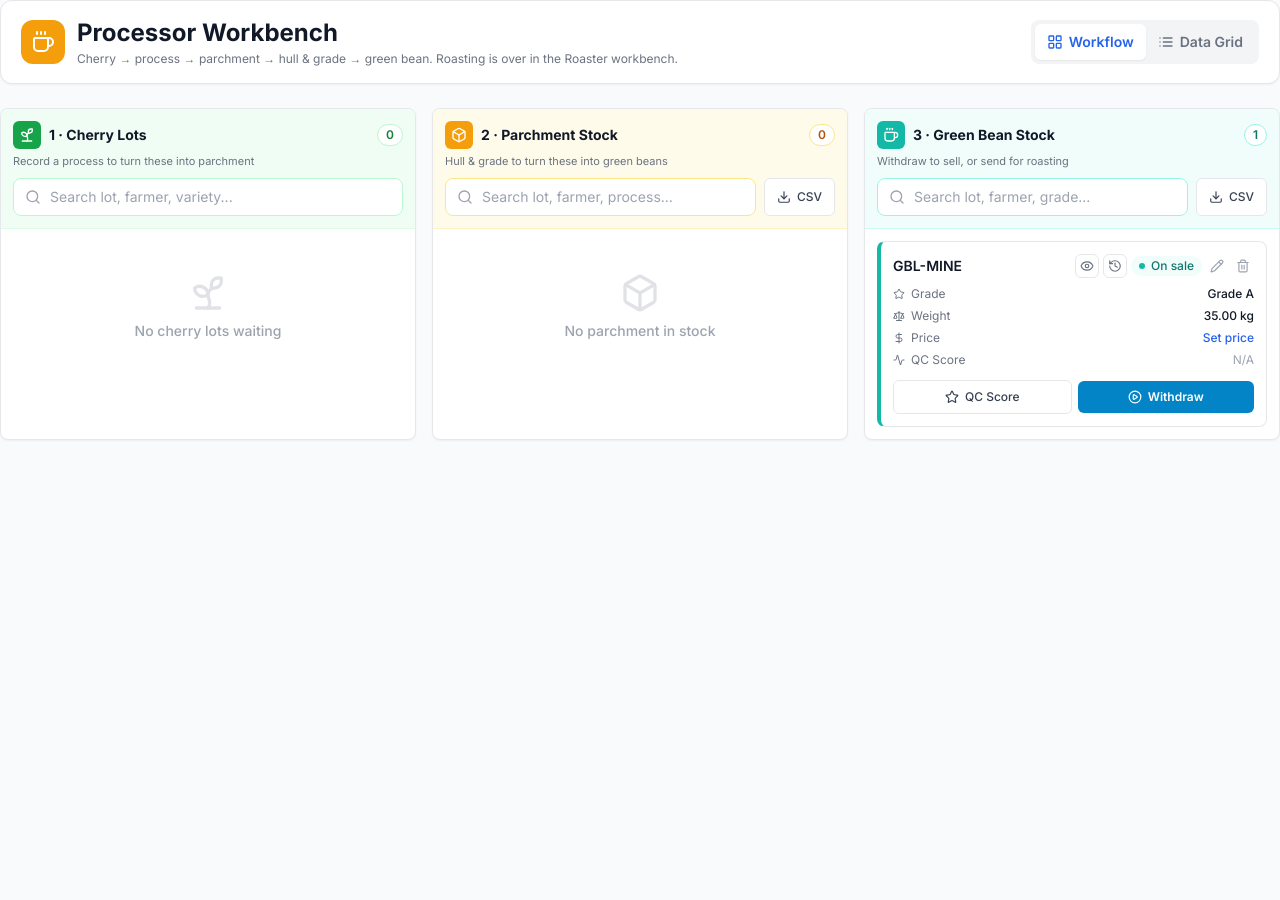
Workbench withdrawal Void and Edit (D7) › voids a Roasting Stock push: kg back on the lot and off the roaster stock, row marked in place
This screenshot has width=1280, height=900.
Click the button "Data Grid" at (1200, 42), box [1146,24,1255,60]
(page scrolled)
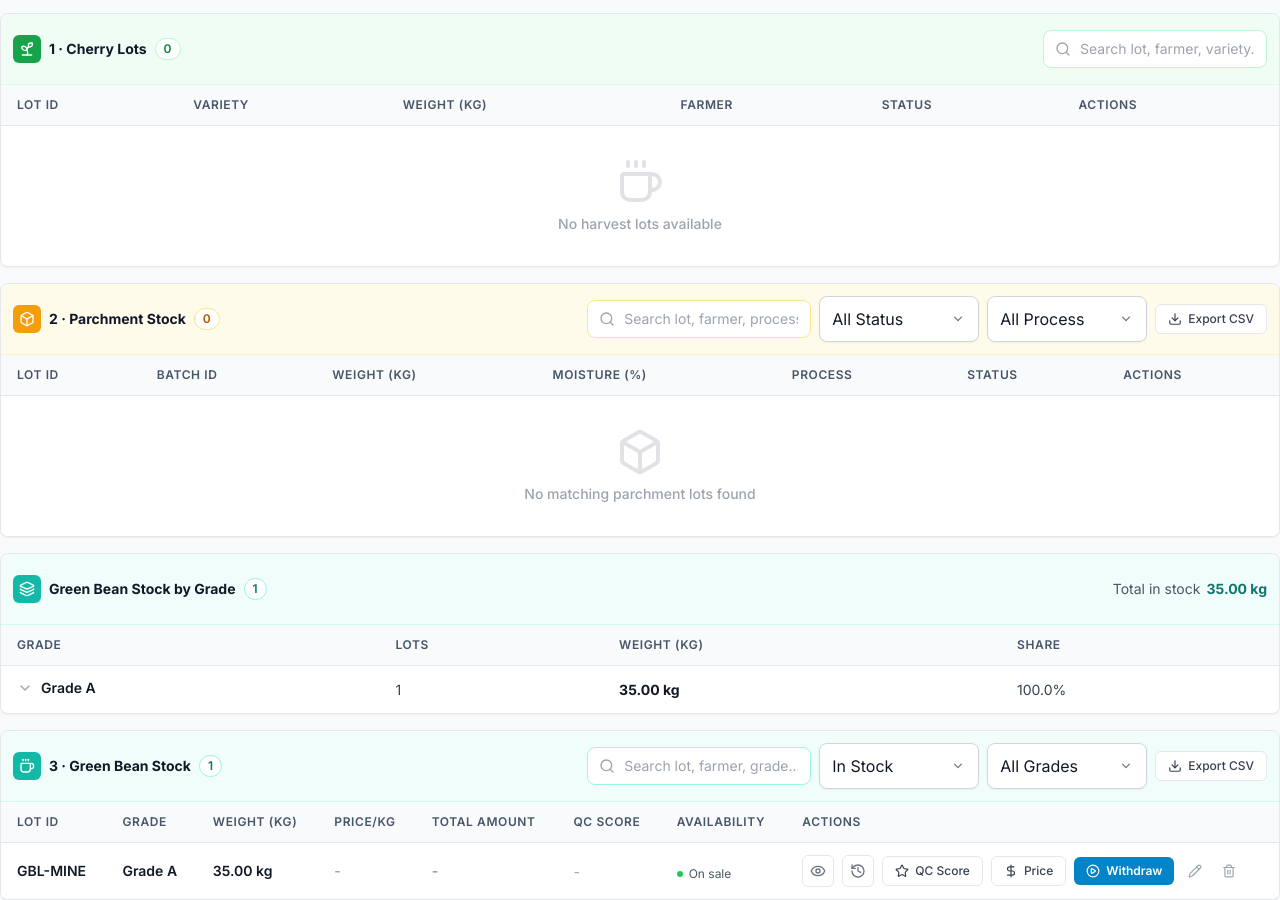
Click the button named "Withdrawal history of green bean lot " at (858, 871), box [842,855,874,887]
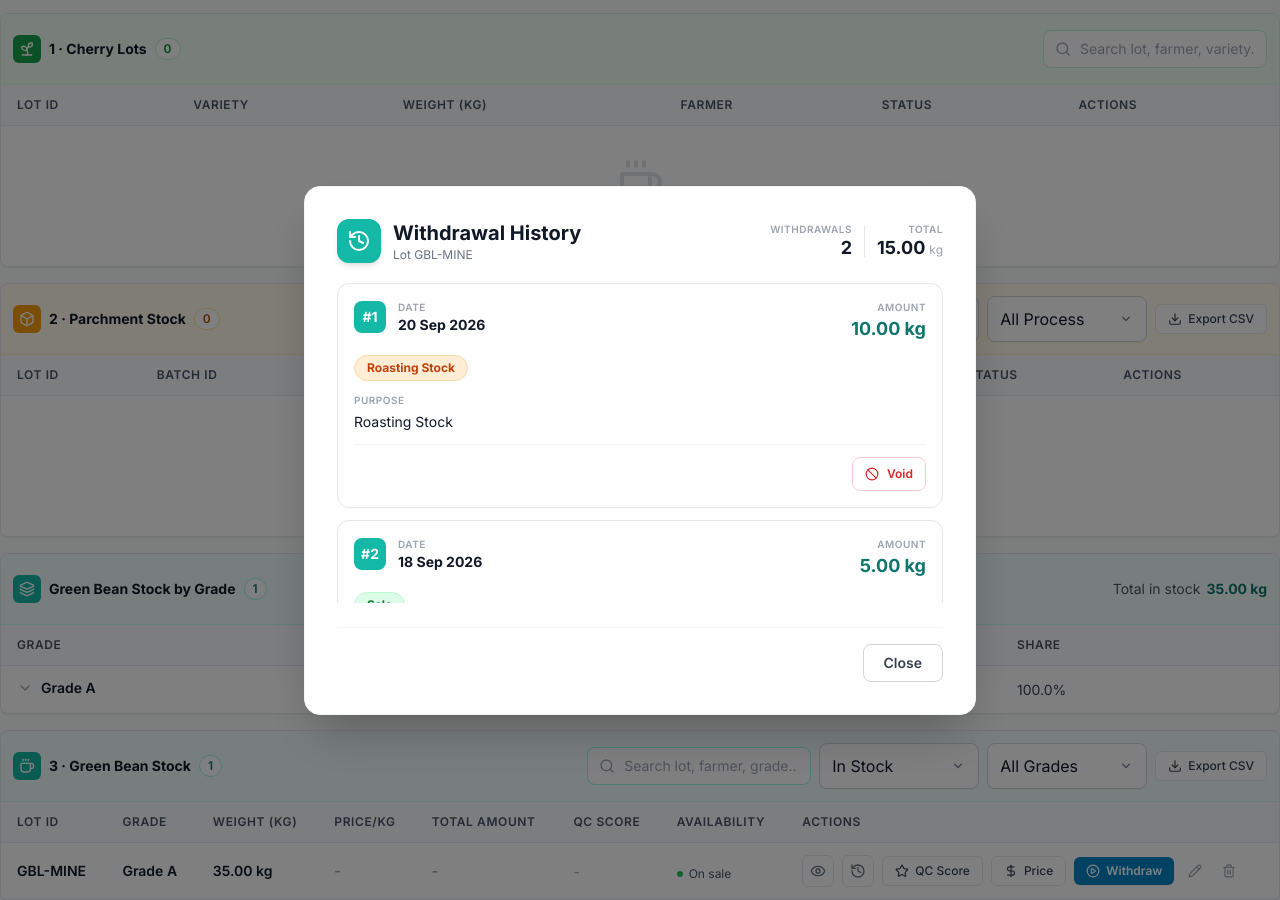
Click the button with aria-label "Void withdrawal" at (889, 474), box [852,456,926,490]
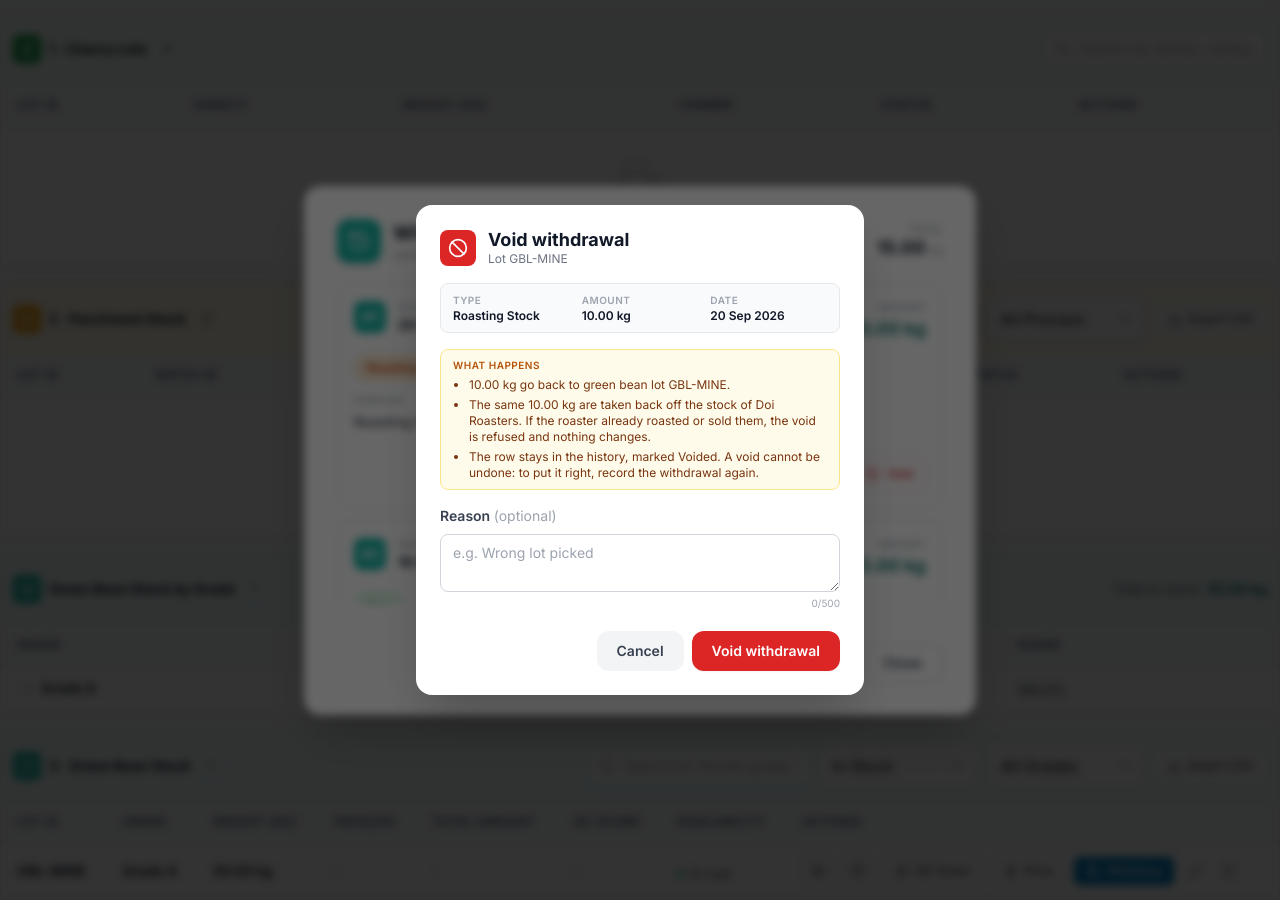
Expected: the list with test id "void-withdrawal-effects" shows "10.00 kg go back to green bean lot GBL-MINE.", [469,377,730,392]
Expected: the list with test id "void-withdrawal-effects" shows "The same 10.00 kg are taken back off the stock of Doi Roasters.", [469,397,816,444]
Type "Wrong roaster" into the text box labelled "Reason (optional)" at (640, 563), box [440,534,840,592]
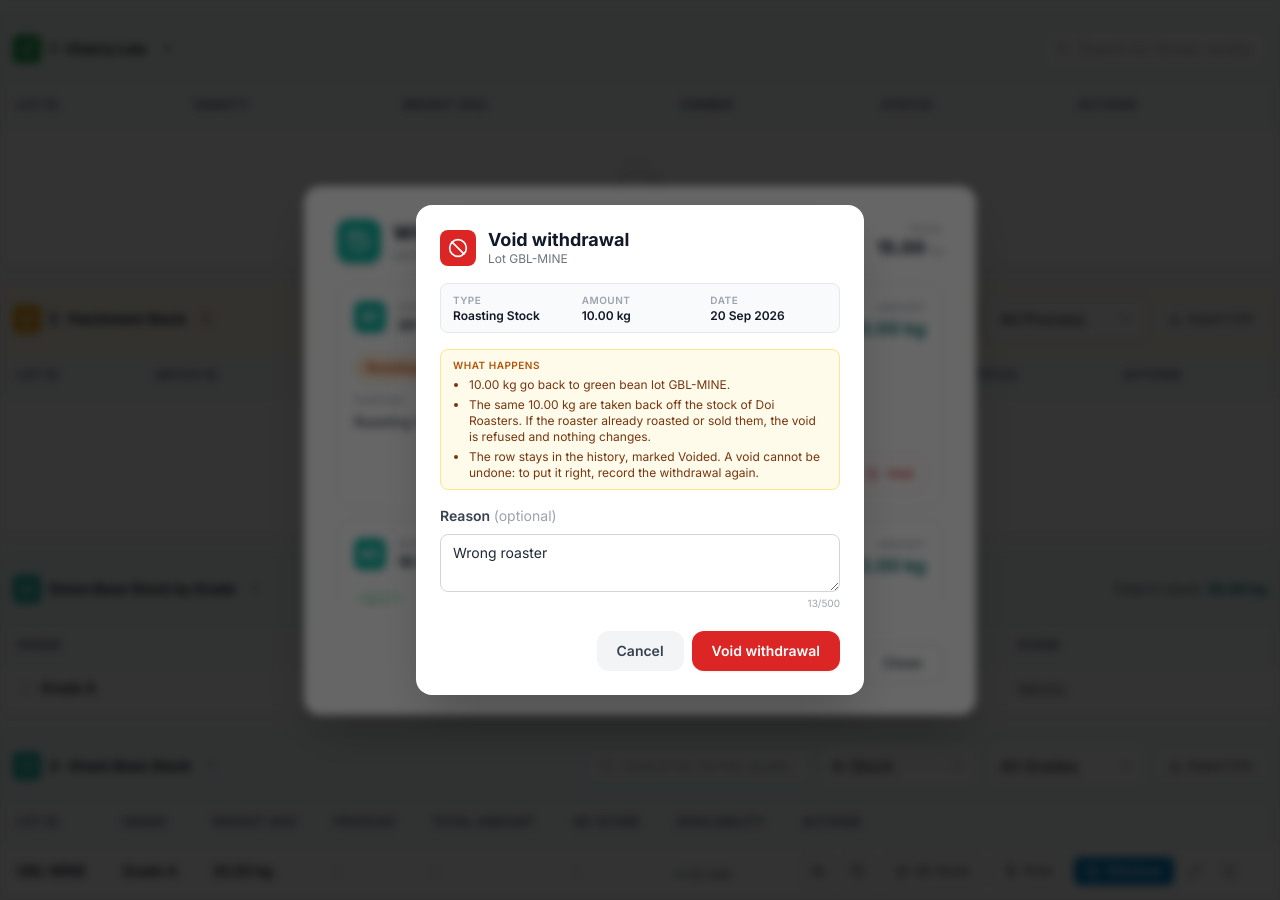
Click the button "Void withdrawal" at (766, 651), box [692,631,840,671]
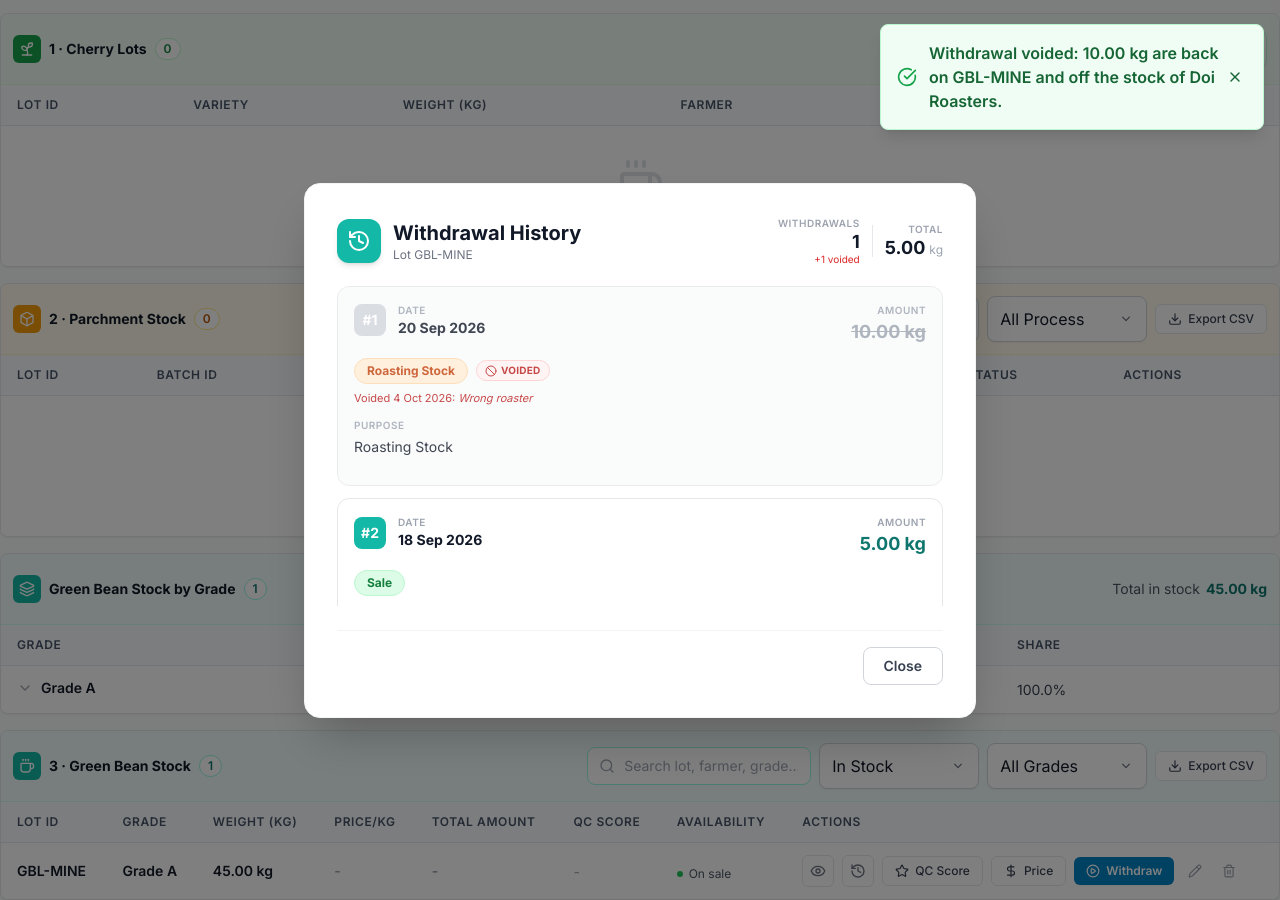
Expected: the heading "Void withdrawal" is gone
Expected: the text "Voided" is shown, [476,360,550,381]
Expected: the element with test id "voided-note" shows "Wrong roaster", [458,390,532,404]
